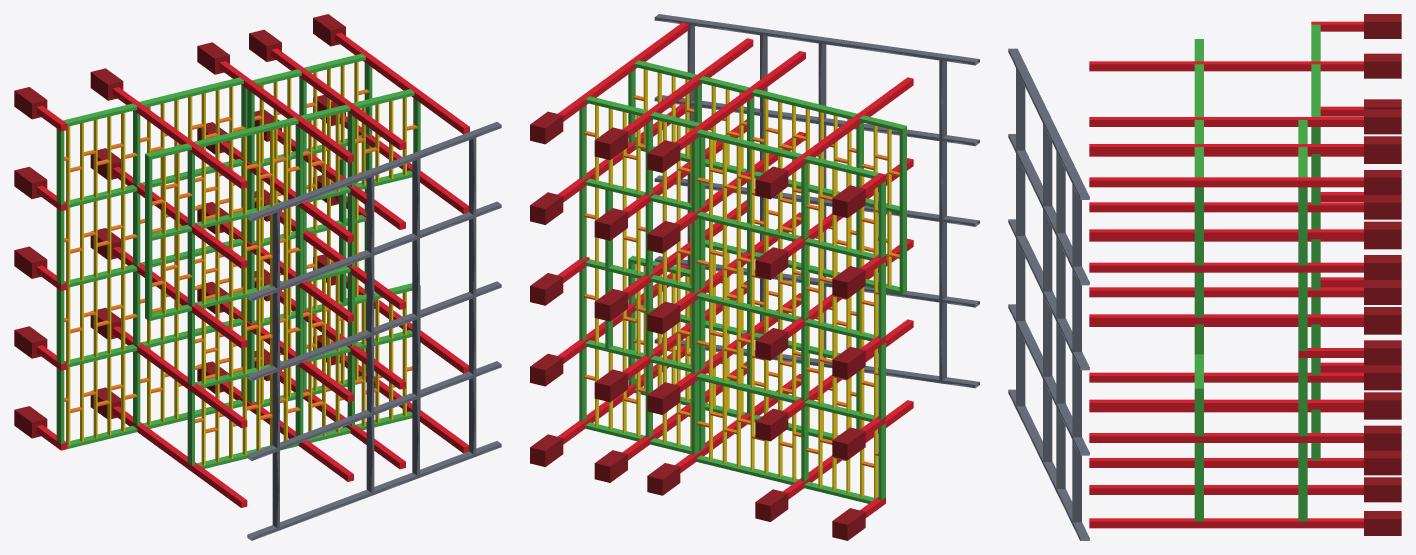
File: tinker.obj
3 views of the same model, side by side, from view 1: azimuth 30°, elevation 25°; view 2: azimuth 150°, elevation 25°; view 3: azimuth 270°, elevation 25° (orthographic). The views are drawn at different scales.
Parts seen in each view (by area): view 1: obj_1, obj_3, obj_2, obj_4, obj_20, obj_15, obj_11, obj_6, obj_7, obj_13, obj_21, obj_12 (+53 smaller); view 2: obj_1, obj_4, obj_2, obj_3, obj_9, obj_13, obj_23, obj_21, obj_7, obj_12, obj_16, obj_20 (+69 smaller); view 3: obj_4, obj_23, obj_9, obj_13, obj_1, obj_8, obj_17, obj_7, obj_12, obj_16, obj_18, obj_2 (+63 smaller).
Part boxes in pixels (x1,y1,x2,y2): obj_1: (112,87,247,188); obj_3: (271,48,405,150); obj_2: (219,61,353,162); obj_4: (335,33,469,134); obj_20: (112,406,247,507); obj_15: (112,326,247,428); obj_11: (112,246,247,348); obj_6: (112,167,247,268); obj_7: (219,141,353,242); obj_13: (280,211,405,309); obj_21: (219,382,353,481); obj_12: (219,222,353,322); obj_1: (783,77,913,176); obj_4: (557,22,688,121); obj_2: (675,51,805,150); obj_3: (622,38,753,137); obj_9: (558,103,685,202); obj_13: (623,200,746,298); obj_23: (558,345,685,444); obj_21: (675,374,801,473); obj_7: (675,131,805,230); obj_12: (675,212,801,311); obj_16: (675,293,801,392); obj_20: (783,400,913,499); obj_4: (1089,177,1363,187); obj_23: (1089,518,1363,528); obj_9: (1089,262,1363,272); obj_13: (1089,314,1363,324); obj_1: (1089,61,1363,71); obj_8: (1089,229,1363,239); obj_17: (1089,399,1363,409); obj_7: (1089,202,1363,212); obj_12: (1089,287,1363,297); obj_16: (1089,372,1363,382); obj_18: (1089,433,1363,442); obj_2: (1089,117,1363,126).
Bounding box in the file's own units: 110 × 105 × 105.
